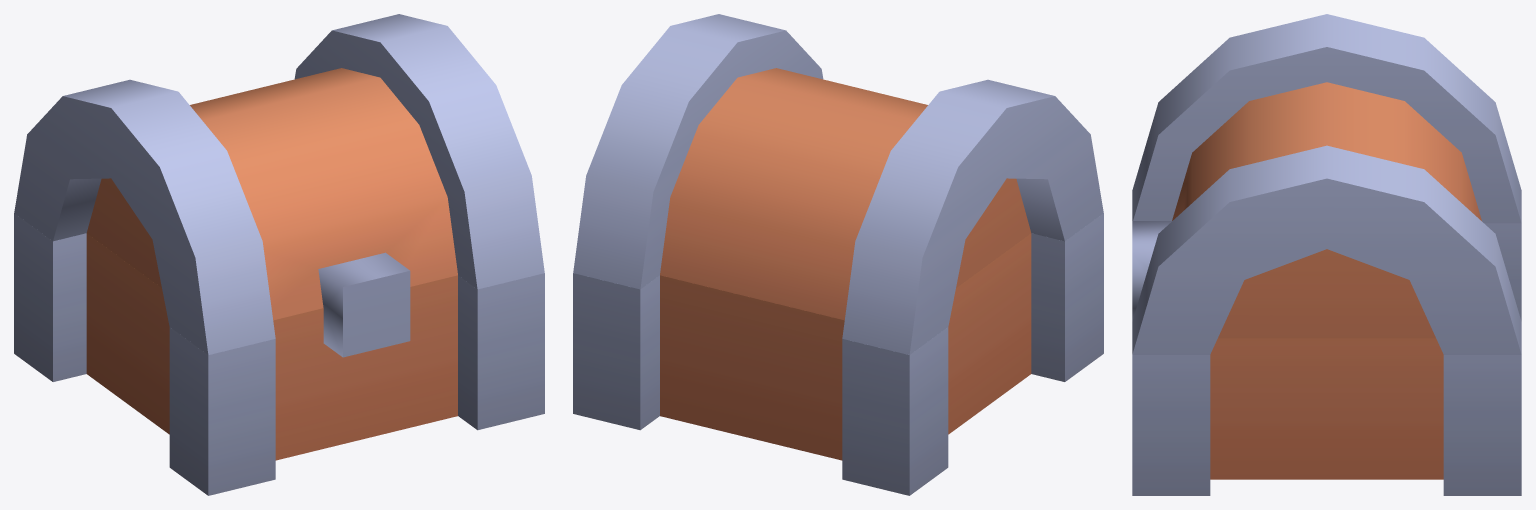
The model's file is k-pirate-chest.glb.
3 renders of one model, left to right at view 1: azimuth 30°, elevation 25°; view 2: azimuth 150°, elevation 25°; view 3: azimuth 270°, elevation 25°, orthographic.
Parts seen in each view (by area): view 1: lid, chest; view 2: lid, chest; view 3: lid, chest.
Boxes of the visible parts, x1,y1,x2,y2 form: lid: [14, 14, 544, 357]; chest: [14, 213, 544, 495]; lid: [573, 14, 1103, 354]; chest: [573, 213, 1103, 495]; lid: [1132, 14, 1521, 354]; chest: [1132, 223, 1521, 495].
Bounding box in the file's own units: 1.27 × 1.15 × 1.28.
Materials: 1 (1 with a texture image).
